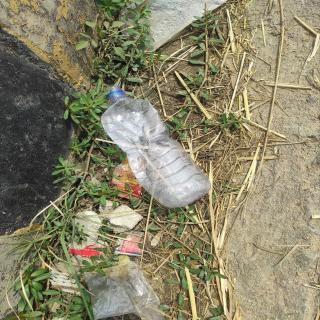Plastic-bottle: (99, 85, 214, 211)
